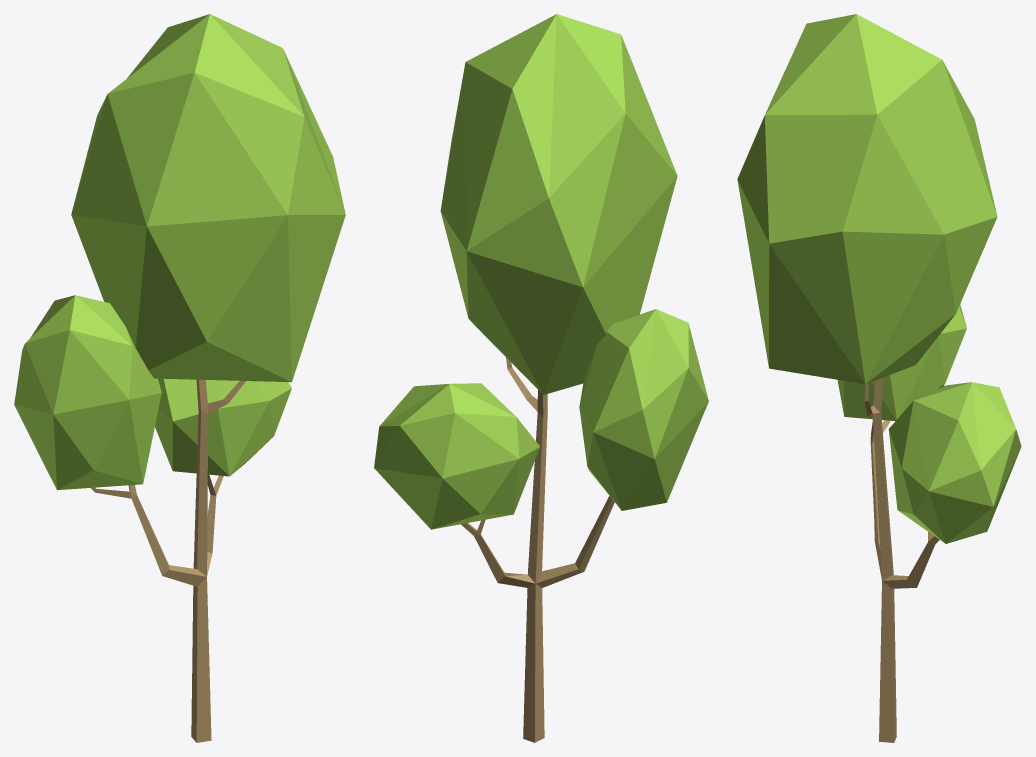
File: Random_Tree_s_BT_02.fbx
The picture shows the model from 3 angles, left to right: view 1: azimuth 30°, elevation 25°; view 2: azimuth 150°, elevation 25°; view 3: azimuth 270°, elevation 25°; orthographic projection. The views are drawn at different scales.
Visible parts, largest first — view 1: Random_Tree_s_BT_02; view 2: Random_Tree_s_BT_02; view 3: Random_Tree_s_BT_02.
Boxes of the visible parts, bbox=[...] form: Random_Tree_s_BT_02: bbox=[14, 14, 345, 742]; Random_Tree_s_BT_02: bbox=[374, 14, 708, 742]; Random_Tree_s_BT_02: bbox=[737, 14, 1021, 742].
Bounding box in the file's own units: 163 × 409 × 146.
